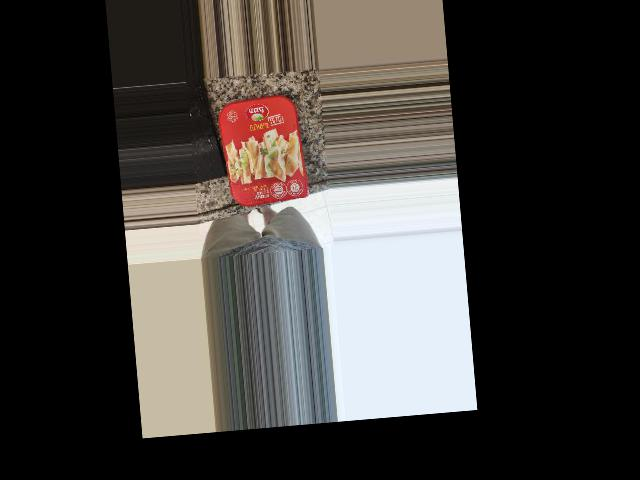cheese: (216, 92, 311, 210)
